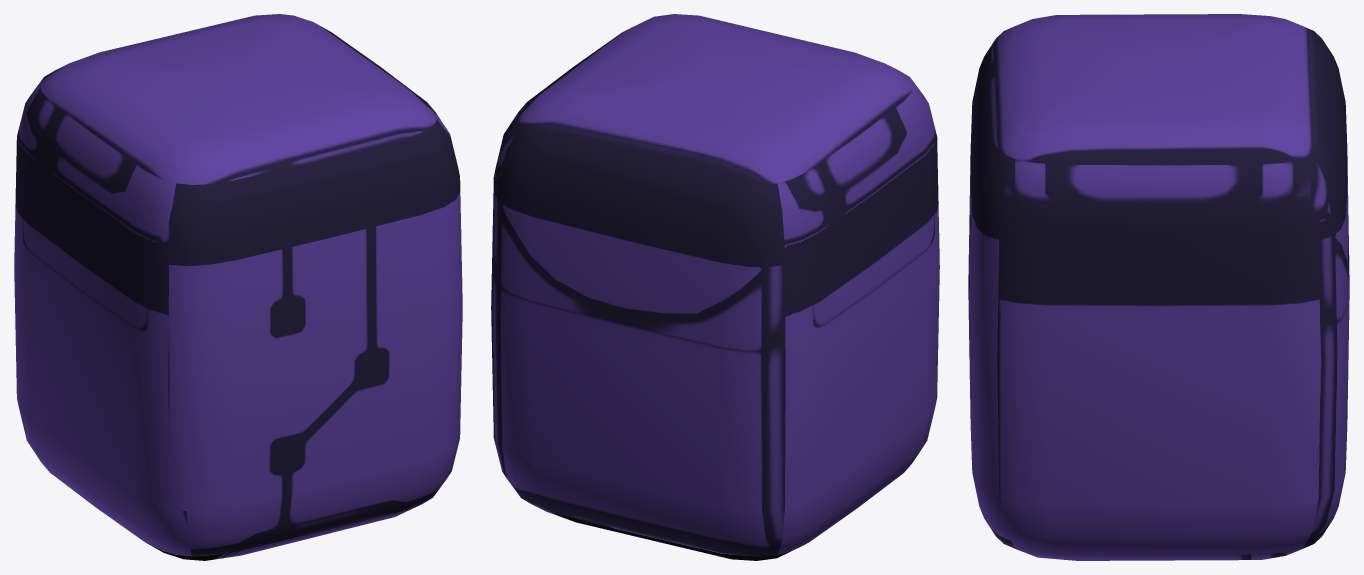
File: Estela_PiernaDer.fbx
The picture shows the model from 3 angles, left to right: view 1: azimuth 30°, elevation 25°; view 2: azimuth 150°, elevation 25°; view 3: azimuth 270°, elevation 25°; orthographic projection. The views are drawn at different scales.
Visible parts, largest first — view 1: Estela_PiernaDer; view 2: Estela_PiernaDer; view 3: Estela_PiernaDer.
Boxes of the visible parts, bbox=[...] form: Estela_PiernaDer: bbox=[14, 14, 462, 560]; Estela_PiernaDer: bbox=[491, 14, 939, 560]; Estela_PiernaDer: bbox=[968, 14, 1349, 560].
Size of the model in its own units: 1.06 by 1.33 by 1.04.
